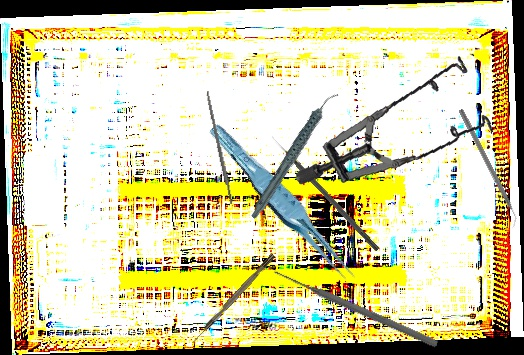Chopper: (452, 108, 522, 230)
Handpiece: (228, 90, 362, 221)
Hook Surgical: (270, 133, 381, 252), (189, 253, 277, 345)
Pusher: (270, 265, 440, 350)
Scalpel Handle: (204, 90, 234, 205)
Speculum: (293, 35, 502, 209)
Tissue Forceps: (207, 113, 359, 295)
